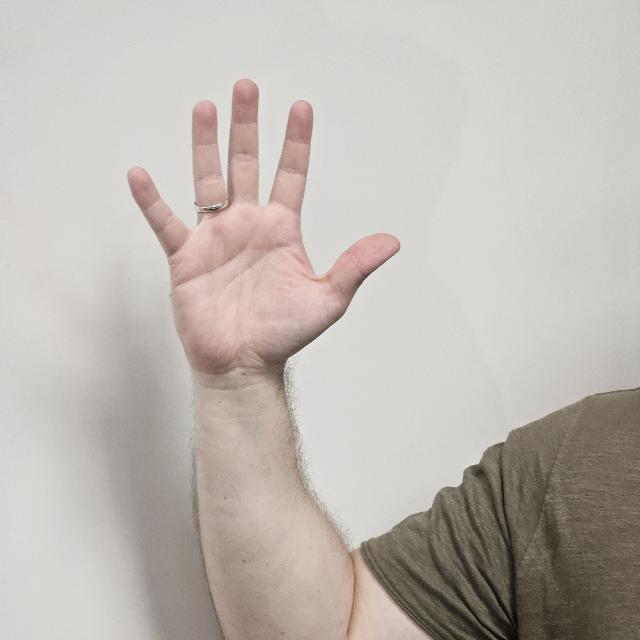X: (128, 79, 396, 415)
